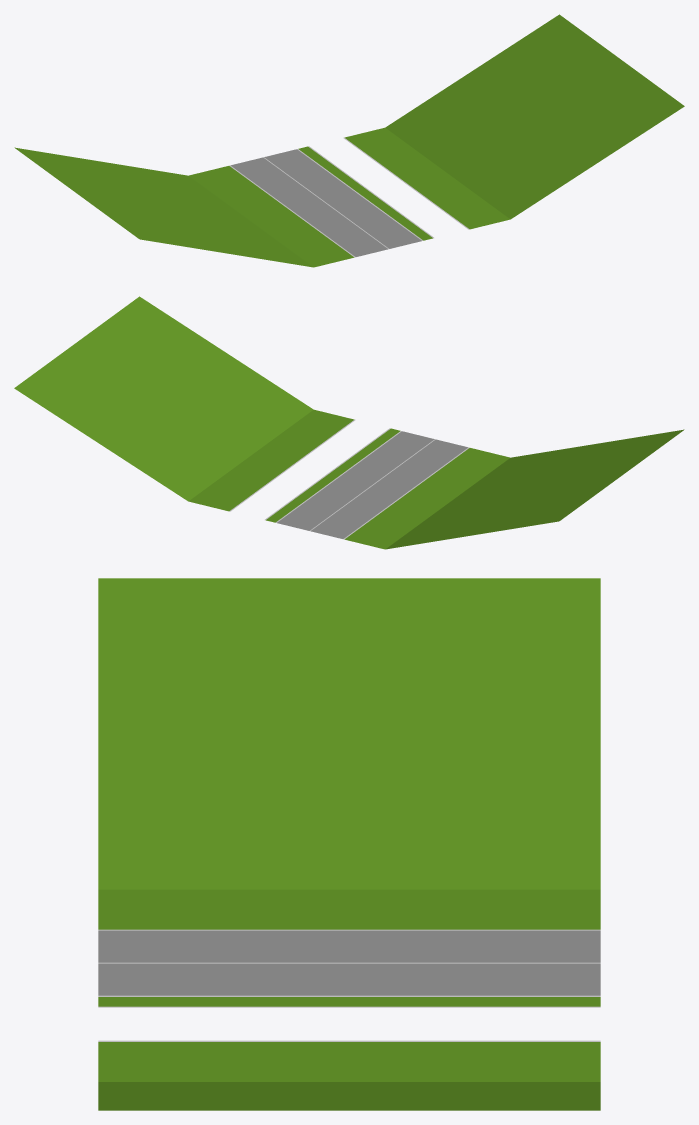
The model's file is RoadD.fbx.
3 views of the same model, one above another, from view 1: azimuth 30°, elevation 25°; view 2: azimuth 150°, elevation 25°; view 3: azimuth 270°, elevation 25° (orthographic). The views are drawn at different scales.
Parts seen in each view (by area): view 1: RoadD; view 2: RoadD; view 3: RoadD.
Part boxes in pixels (x1,y1,x2,y2): RoadD: (14,14,684,267); RoadD: (14,296,684,549); RoadD: (98,578,600,1110).
Bounding box in the file's own units: 19343 × 2394 × 7711.
Materials: 1 (1 with a texture image).
